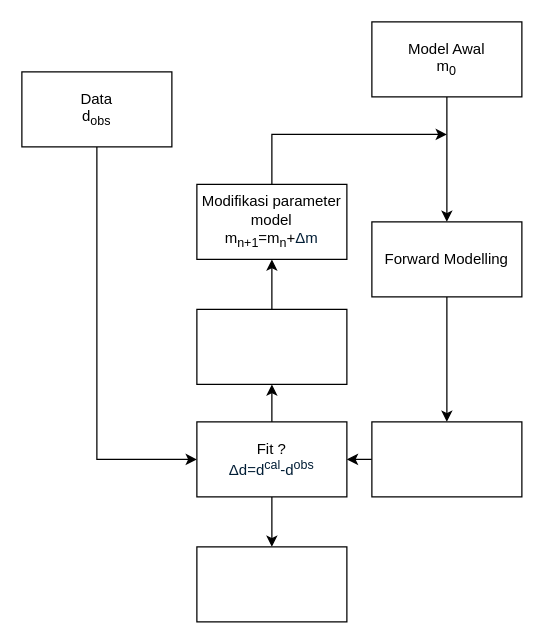
Image size: 544x644. Some labels were removed from this diagram. The box of each missing label's shape, as (x1, y1, x2, y2) in pixels:
Data perhitungan: (371, 421, 522, 497)
Matriks Jacobi J=[dg/dm]: (196, 308, 347, 384)
Solusi model: (196, 546, 347, 622)
